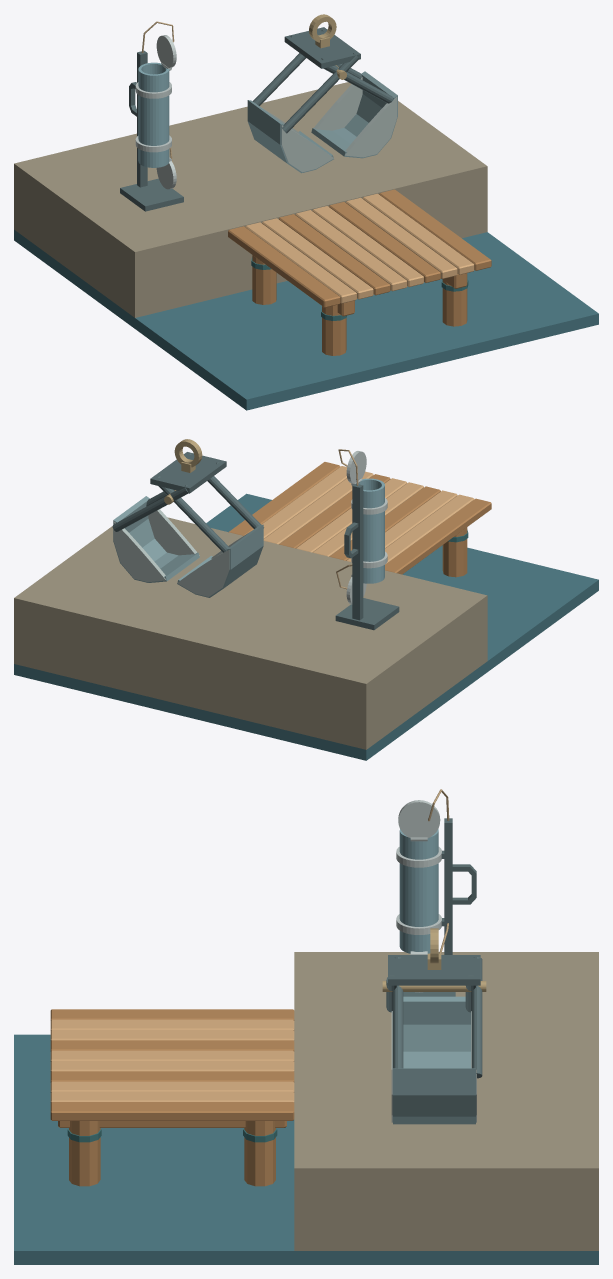
3 views of the same model, one above another, from view 1: azimuth 30°, elevation 25°; view 2: azimuth 150°, elevation 25°; view 3: azimuth 270°, elevation 25° (orthographic). The views are drawn at different scales.
Parts seen in each view (by area): view 1: SceneOnly_RaisedShore, SceneOnly_ContinuousFloor, d__harbor-dock-module-01, c__WholeContinuousDoubleOpenSamplingTube, g__WholeCurvedConcaveJawFloor1, g__WholeUpperCrosshead, g__WholeShapedJawSideCheek1_0, g__WholeCurvedConcaveJawFloor0, g__WholeShapedJawSideCheek0_0, c__WholeShortFlatDisplayFoot, g__WholeShapedJawSideCheek1_1, g__WholeLongCrossingJawArm0_0 (+4 smaller); view 2: SceneOnly_RaisedShore, SceneOnly_ContinuousFloor, d__harbor-dock-module-01, c__WholeContinuousDoubleOpenSamplingTube, g__WholeCurvedConcaveJawFloor1, g__WholeUpperCrosshead, c__WholeIndependentLongSideSpine, g__WholeCurvedConcaveJawFloor0, g__WholeShapedJawSideCheek1_1, g__WholeShapedJawSideCheek0_1, g__WholeShapedJawSideCheek1_0, c__WholeShortFlatDisplayFoot (+5 smaller); view 3: SceneOnly_RaisedShore, SceneOnly_ContinuousFloor, d__harbor-dock-module-01, g__WholeCurvedConcaveJawFloor0, g__WholeCurvedConcaveJawFloor1, c__WholeContinuousDoubleOpenSamplingTube, g__WholeUpperCrosshead, c__WholeVerticallyOpenFullEndCap1, c__WholeIndependentLongSideSpine, g__WholeLongCrossingJawArm1_1, g__WholeLongCrossingJawArm1_0.
Part boxes in pixels (<box>): SceneOnly_RaisedShore: <box>14,82,487,317</box>; SceneOnly_ContinuousFloor: <box>14,229,598,410</box>; d__harbor-dock-module-01: <box>228,189,491,355</box>; c__WholeContinuousDoubleOpenSamplingTube: <box>138,62,169,167</box>; g__WholeCurvedConcaveJawFloor1: <box>311,71,397,158</box>; g__WholeUpperCrosshead: <box>284,27,360,68</box>; g__WholeShapedJawSideCheek1_0: <box>345,97,397,157</box>; g__WholeCurvedConcaveJawFloor0: <box>247,100,333,173</box>; g__WholeShapedJawSideCheek0_0: <box>281,125,333,172</box>; c__WholeShortFlatDisplayFoot: <box>120,178,183,211</box>; g__WholeShapedJawSideCheek1_1: <box>311,77,362,130</box>; g__WholeLongCrossingJawArm0_0: <box>281,53,359,133</box>; SceneOnly_RaisedShore: <box>14,517,487,749</box>; SceneOnly_ContinuousFloor: <box>14,493,598,760</box>; d__harbor-dock-module-01: <box>228,462,491,577</box>; c__WholeContinuousDoubleOpenSamplingTube: <box>358,478,384,583</box>; g__WholeCurvedConcaveJawFloor1: <box>113,496,199,582</box>; g__WholeUpperCrosshead: <box>150,452,226,493</box>; c__WholeIndependentLongSideSpine: <box>352,483,363,620</box>; g__WholeCurvedConcaveJawFloor0: <box>177,524,263,597</box>; g__WholeShapedJawSideCheek1_1: <box>114,521,165,582</box>; g__WholeShapedJawSideCheek0_1: <box>177,550,229,596</box>; g__WholeShapedJawSideCheek1_0: <box>148,509,199,555</box>; c__WholeShortFlatDisplayFoot: <box>335,598,399,630</box>; SceneOnly_RaisedShore: <box>294,952,598,1250</box>; SceneOnly_ContinuousFloor: <box>14,1034,598,1264</box>; d__harbor-dock-module-01: <box>50,1009,294,1186</box>; g__WholeCurvedConcaveJawFloor0: <box>403,996,470,1068</box>; g__WholeCurvedConcaveJawFloor1: <box>393,1068,475,1124</box>; c__WholeContinuousDoubleOpenSamplingTube: <box>399,829,438,953</box>; g__WholeUpperCrosshead: <box>388,955,480,985</box>; c__WholeVerticallyOpenFullEndCap1: <box>398,800,440,837</box>; c__WholeIndependentLongSideSpine: <box>444,818,452,954</box>; g__WholeLongCrossingJawArm1_1: <box>471,957,482,1078</box>; g__WholeLongCrossingJawArm1_0: <box>392,957,403,1069</box>.
Size of the model in its own units: 4.2 by 2.79 by 4.8.
